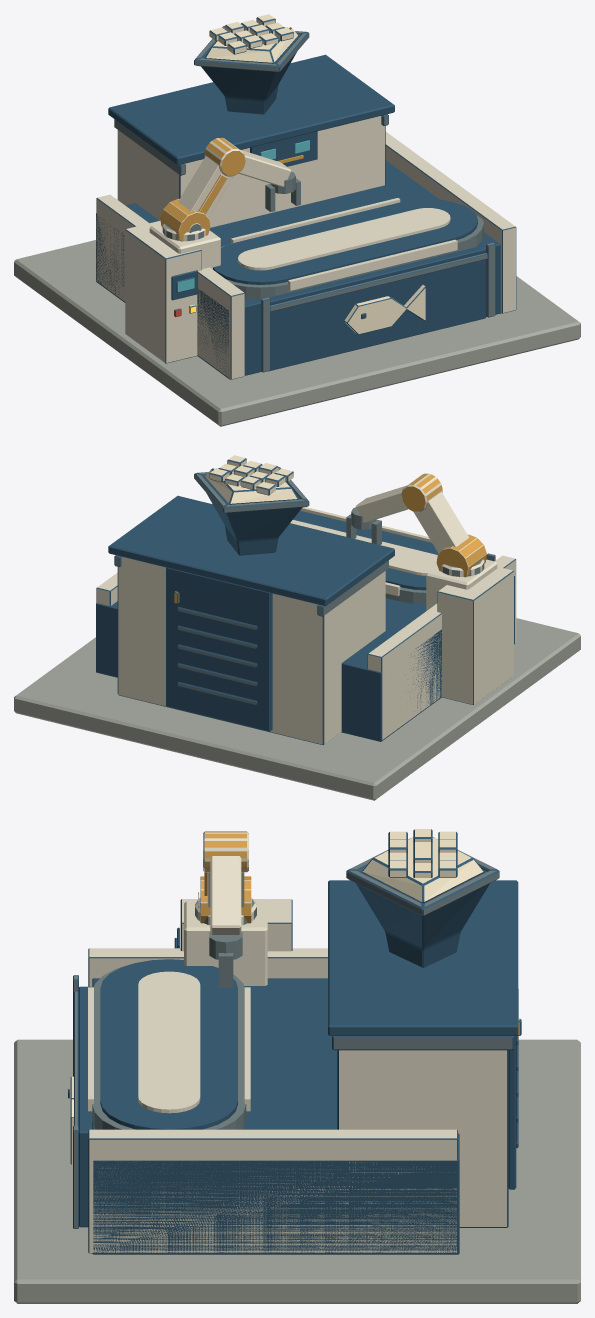
Rendered from auto-sushi-lv1.glb.
3 views of the same model, one above another, from view 1: azimuth 30°, elevation 25°; view 2: azimuth 150°, elevation 25°; view 3: azimuth 270°, elevation 25° (orthographic). The views are drawn at different scales.
Visible parts, largest first — view 1: Auto_L1, Robot_L_Upper, Robot_L_Forearm, Robot_L_Gripper; view 2: Auto_L1, Robot_L_Upper, Robot_L_Forearm, Robot_L_Gripper; view 3: Auto_L1, Robot_L_Forearm, Robot_L_Gripper, Robot_L_Upper.
Boxes of the visible parts, x1=… form: Auto_L1: x1=14, y1=14, x2=580, y2=426; Robot_L_Upper: x1=160, y1=156, x2=233, y2=241; Robot_L_Forearm: x1=204, y1=137, x2=291, y2=186; Robot_L_Gripper: x1=265, y1=171, x2=300, y2=211; Auto_L1: x1=14, y1=455, x2=580, y2=800; Robot_L_Upper: x1=413, y1=491, x2=486, y2=577; Robot_L_Forearm: x1=356, y1=473, x2=442, y2=522; Robot_L_Gripper: x1=346, y1=507, x2=381, y2=544; Auto_L1: x1=14, y1=829, x2=580, y2=1303; Robot_L_Forearm: x1=203, y1=831, x2=248, y2=934; Robot_L_Gripper: x1=209, y1=932, x2=242, y2=987; Robot_L_Upper: x1=198, y1=872, x2=251, y2=923.
Size of the model in its own units: 4.25 by 2.74 by 4.2.
